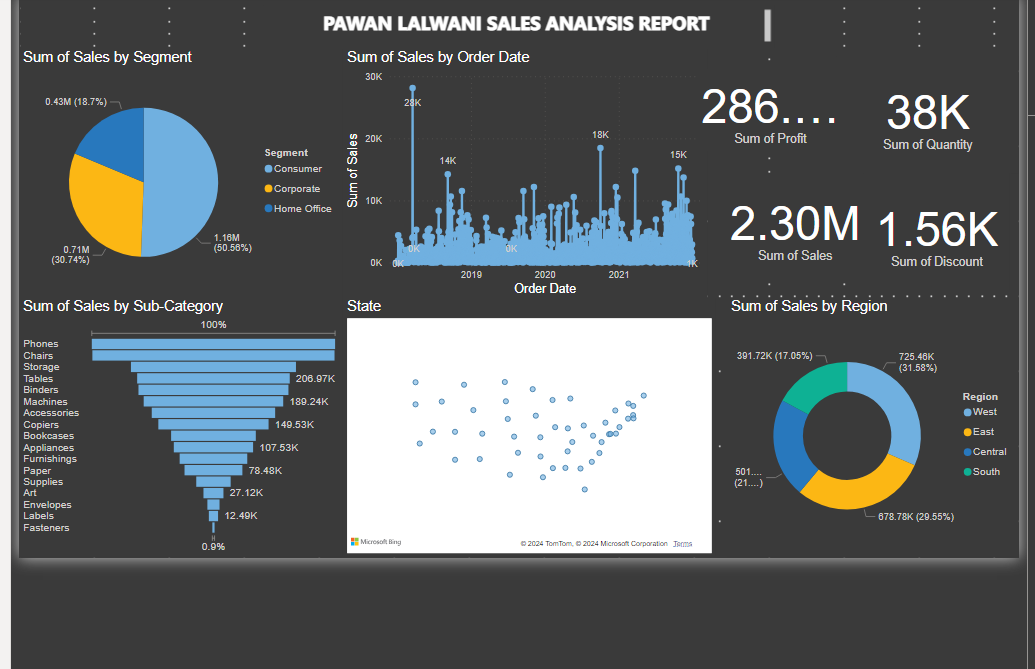

This screenshot's page, from the dashboard's own definition file:
{"tool":"powerbi","page":{"name":"Page 1","canvas":[1280,720],"ordinal":0},"visuals":[{"type":"donutChart","fields":{"Category":["Orders.Region"],"Y":["Orders.Sales"]},"box":[907.1,388.6,372.9,331.4],"z":0},{"type":"funnel","fields":{"Category":["Orders.Sub-Category"],"Y":["Orders.Sales"]},"box":[0,388.6,414.3,331.4],"z":1000},{"type":"pieChart","fields":{"Category":["Orders.Segment"],"Y":["Orders.Sales"]},"box":[0,68.6,414.3,320],"z":2000},{"type":"map","fields":{"Category":["Orders.State"]},"box":[414.3,388.6,477.1,331.4],"z":3000},{"type":"lineChart","fields":{"Category":["Orders.Order Date"],"Y":["Orders.Sales"]},"box":[414.3,68.6,465.7,320],"z":4000},{"type":"card","fields":{"Values":["Orders.Sales"]},"box":[890,231.4,204.3,128.6],"z":5000},{"type":"card","fields":{"Values":["Orders.Profit"]},"box":[868.6,94.3,187.1,105.7],"z":6000},{"type":"card","fields":{"Values":["Orders.Quantity"]},"box":[1047.1,78.6,232.9,150],"z":7000},{"type":"card","fields":{"Values":["Orders.Discount"]},"box":[1081.4,228.6,187.1,150],"z":8000},{"type":"textbox","box":[312.9,14.3,654.3,54.3],"z":9000}]}

Visuals, with their boxes on the page's 1280x720 design canvas (x1, y1, x2, y2). These are canvas units, not pixel positions in the 1035x669 screenshot, which may show the page scaled, cropped or inside an application window:
donutChart - Orders.Region x Orders.Sales: 907 389 1280 720
funnel - Orders.Sub-Category x Orders.Sales: 0 389 414 720
pieChart - Orders.Segment x Orders.Sales: 0 69 414 389
map - Orders.State: 414 389 891 720
lineChart - Orders.Order Date x Orders.Sales: 414 69 880 389
card - Orders.Sales: 890 231 1094 360
card - Orders.Profit: 869 94 1056 200
card - Orders.Quantity: 1047 79 1280 229
card - Orders.Discount: 1081 229 1268 379
textbox: 313 14 967 69
